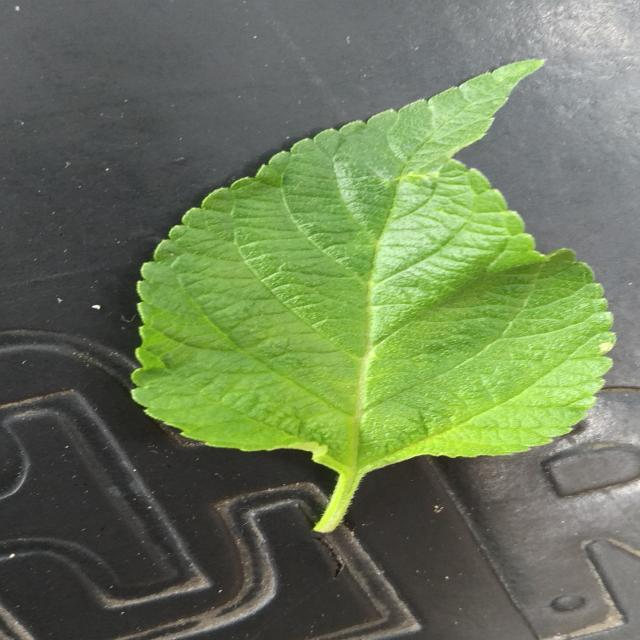Lantana: (133, 60, 613, 531)
